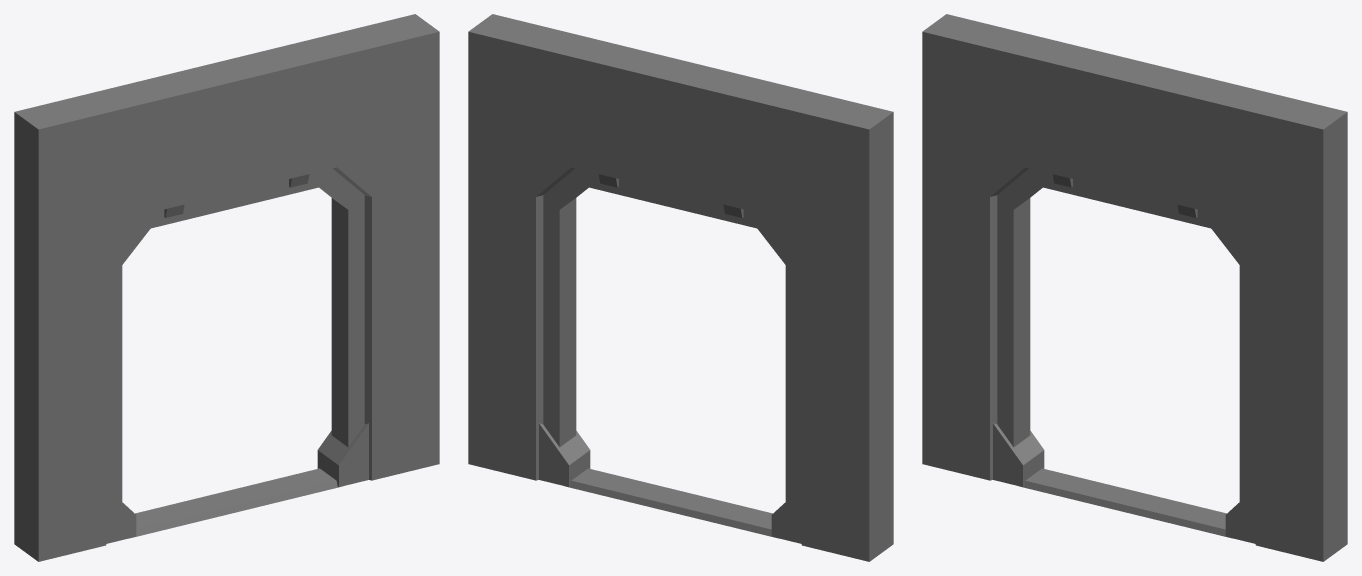
File: q-scifi-mod-door-frame-square.glb
The picture shows the model from 3 angles, left to right: view 1: azimuth 30°, elevation 25°; view 2: azimuth 150°, elevation 25°; view 3: azimuth 330°, elevation 25°; orthographic projection.
Visible parts, largest first — view 1: Door_Frame_Square; view 2: Door_Frame_Square; view 3: Door_Frame_Square.
Boxes of the visible parts, x1=… form: Door_Frame_Square: x1=14, y1=14, x2=439, y2=561; Door_Frame_Square: x1=468, y1=14, x2=893, y2=561; Door_Frame_Square: x1=922, y1=14, x2=1347, y2=561.
Size of the model in its own units: 4.85 by 5.01 by 0.5068.
1 material, 1 textured.
